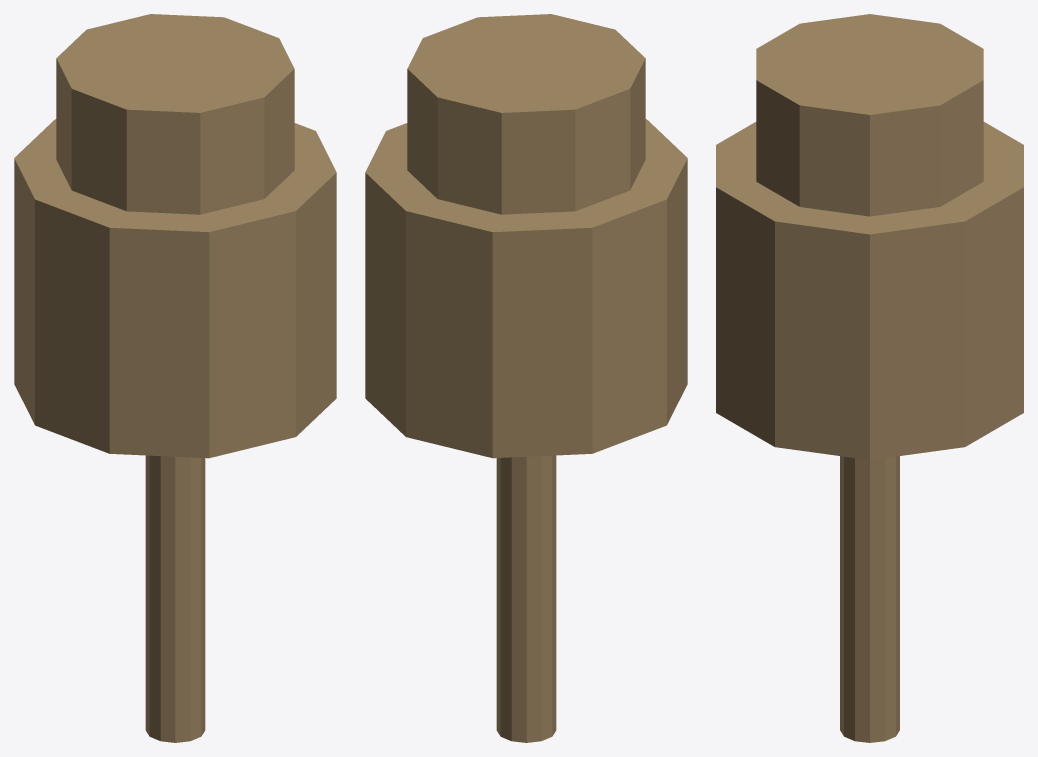
Rendered from BogotaTree.obj.
3 views of the same model, side by side, from view 1: azimuth 30°, elevation 25°; view 2: azimuth 150°, elevation 25°; view 3: azimuth 270°, elevation 25° (orthographic).
Parts seen in each view (by area): view 1: BogotaTree; view 2: BogotaTree; view 3: BogotaTree.
Boxes of the visible parts, bbox=[...] form: BogotaTree: bbox=[14, 14, 336, 742]; BogotaTree: bbox=[365, 14, 687, 742]; BogotaTree: bbox=[716, 14, 1023, 742].
Bounding box in the file's own units: 1.3 × 2.95 × 1.24.
